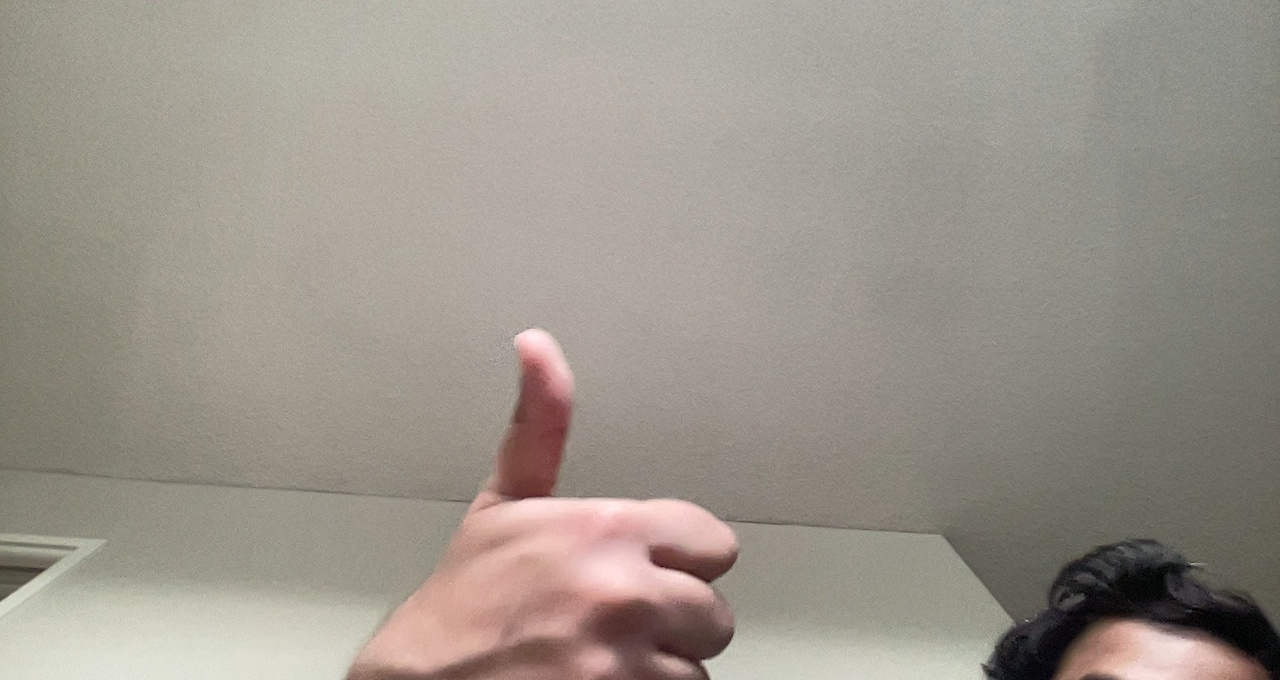thumbsup: (387, 318, 749, 674)
